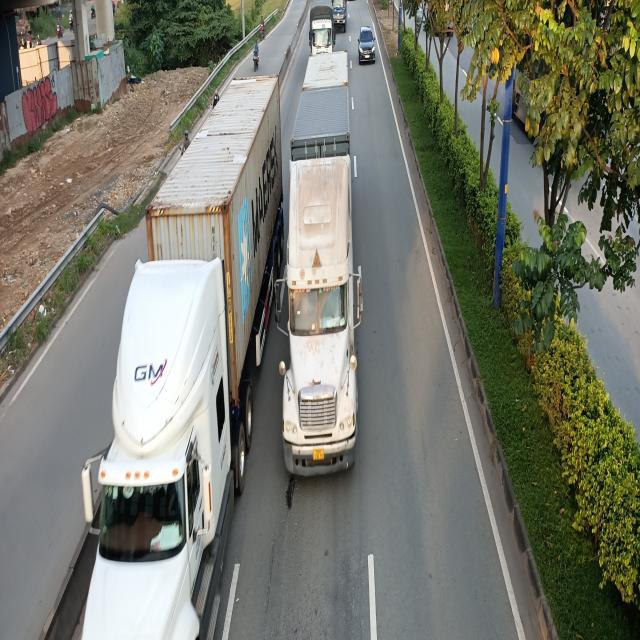car: (357, 25, 375, 63)
container: (79, 79, 283, 640), (271, 50, 360, 479)
truck: (308, 1, 335, 60), (331, 0, 350, 30)
